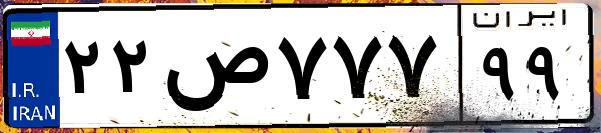2: (57, 26, 110, 100), (110, 28, 158, 98)
7: (270, 28, 330, 110), (385, 28, 445, 110), (330, 28, 385, 110)
9: (475, 38, 525, 113), (525, 38, 570, 115)
ص: (158, 20, 270, 120)
